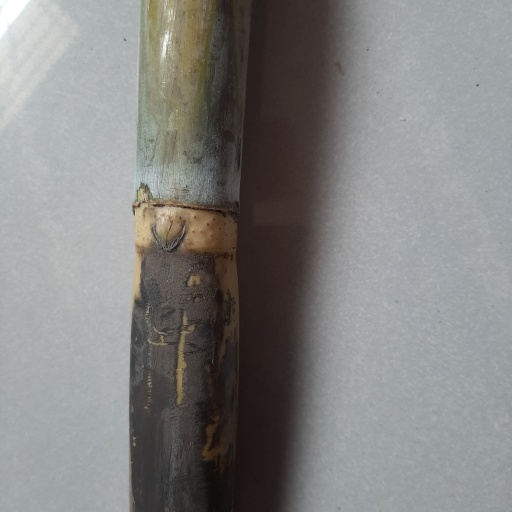Bud: (148, 211, 187, 254)
